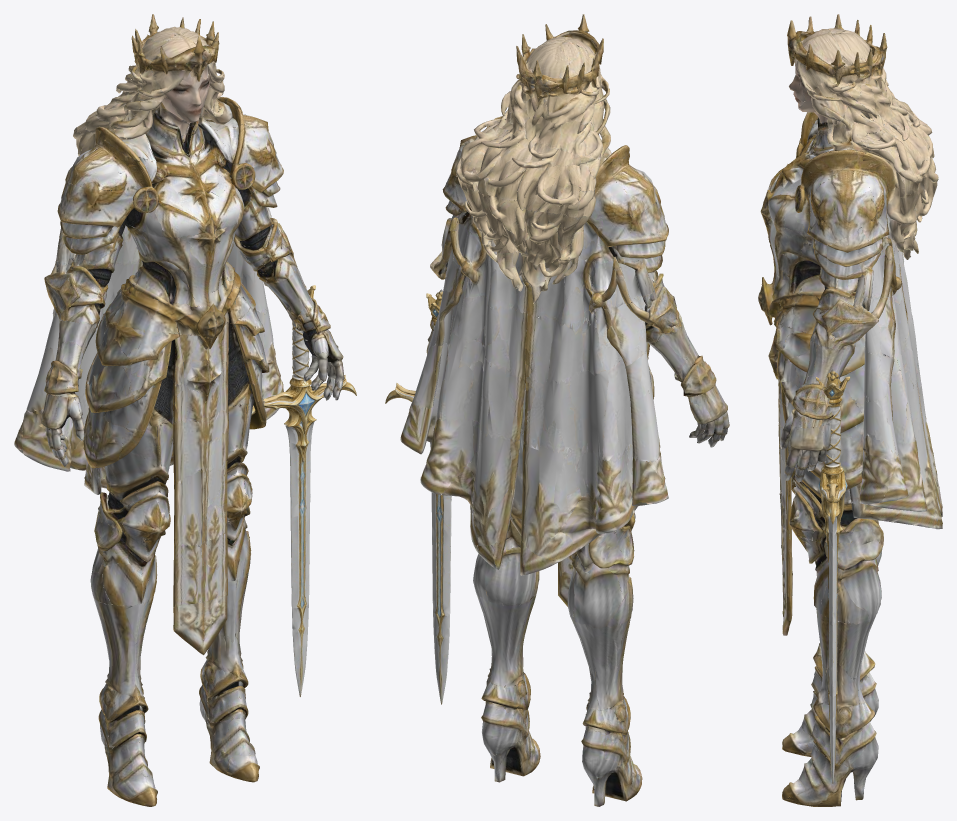
Rendered from white_queen_armed.glb.
3 renders of one model, left to right at view 1: azimuth 30°, elevation 25°; view 2: azimuth 150°, elevation 25°; view 3: azimuth 270°, elevation 25°, orthographic.
Visible parts, largest first — view 1: White_Queen, Queen_Sword; view 2: White_Queen, Queen_Sword; view 3: White_Queen, Queen_Sword.
Part boxes in pixels (x1,y1,x2,y2): White_Queen: (14, 14, 344, 806); Queen_Sword: (245, 285, 356, 696); White_Queen: (400, 14, 729, 806); Queen_Sword: (385, 289, 451, 704); White_Queen: (758, 14, 942, 806); Queen_Sword: (815, 369, 850, 783).
Bounding box in the file's own units: 0.8589 × 1.9 × 0.4227.
2 materials, 2 textured.
